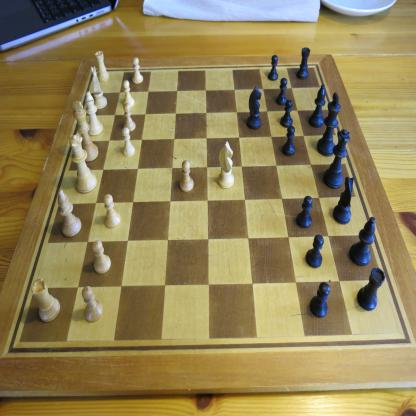black-bishop: (349, 216, 376, 267), (308, 84, 326, 128)
black-king: (316, 92, 341, 157)
black-knight: (332, 176, 354, 225), (246, 86, 262, 130)
black-pawn: (310, 282, 330, 318), (305, 234, 324, 269), (296, 195, 313, 229), (282, 125, 296, 157), (280, 99, 293, 128), (276, 77, 288, 106), (268, 54, 278, 81)
black-queen: (323, 128, 351, 190)
black-rook: (356, 267, 386, 311), (296, 47, 311, 80)
white-bishop: (57, 189, 82, 238), (85, 91, 104, 136)
white-king: (72, 100, 99, 162)
white-knight: (218, 141, 234, 189), (90, 66, 107, 110)
white-pawn: (82, 285, 103, 323), (92, 240, 112, 274), (103, 193, 121, 228), (180, 160, 194, 192), (122, 127, 135, 157), (123, 103, 136, 132), (131, 57, 144, 84), (122, 80, 134, 108)
white-queen: (67, 133, 97, 194)
white-rook: (31, 278, 61, 323), (94, 50, 110, 82)
